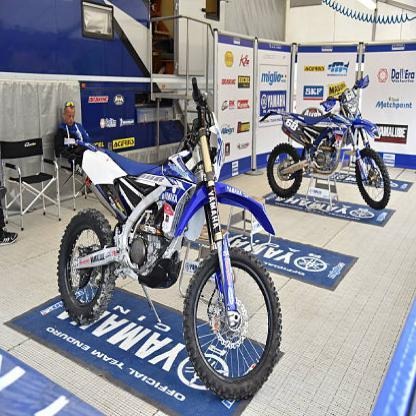Motorcycle: (55, 111, 282, 401), (274, 78, 393, 210)
